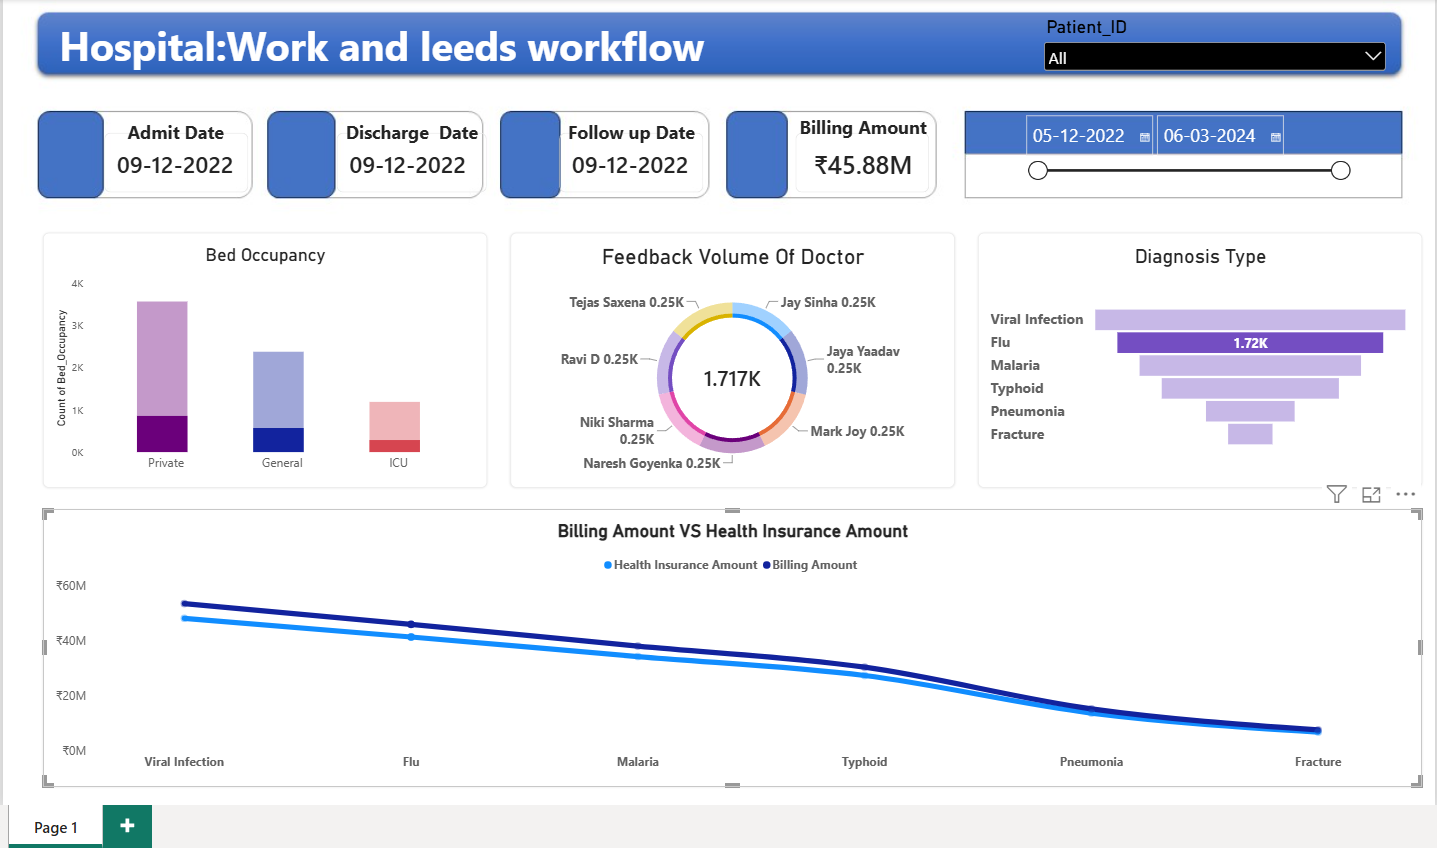

The page's visual inventory and layout, read from the dashboard file:
{"tool":"powerbi","page":{"name":"Page 1","canvas":[1920,1080],"ordinal":0},"visuals":[{"type":"textbox","box":[76.2,24.7,883,74.1],"z":0},{"type":"slicer","fields":{"Values":["Sheet1.Patient_ID"]},"box":[1389.4,22.6,467.2,76.2],"z":1000},{"type":"cardVisual","fields":{"Data":["Min(Sheet1.Admit_Date)"]},"box":[135.8,179.1,193.5,80.3],"z":2000},{"type":"textbox","box":[144.1,162.6,175,57.6],"z":3000},{"type":"cardVisual","fields":{"Data":["Min(Sheet1.Admit_Date)"]},"box":[745.1,179.1,193.5,80.3],"z":4000},{"type":"cardVisual","fields":{"Data":["Min(Sheet1.Admit_Date)"]},"box":[446.7,179.1,201.7,80.3],"z":5000},{"type":"cardVisual","fields":{"Data":["Sum(Sheet1.Billing Amount)"]},"box":[1062.1,179.1,179.1,80.3],"z":6000},{"type":"textbox","box":[446.7,162.6,201.7,43.2],"z":7000},{"type":"textbox","box":[745.1,162.6,193.5,47.3],"z":8000},{"type":"textbox","box":[1047.7,156.4,207.9,45.3],"z":9000},{"type":"slicer","fields":{"Values":["Sheet1.Admit_Date"]},"box":[1344.1,144.1,465.2,115.3],"z":10000},{"type":"columnChart","title":"Bed Occupancy","fields":{"Category":["Sheet1.Bed_Occupancy"],"Y":["CountNonNull(Sheet1.Bed_Occupancy)"]},"box":[53.6,313.2,594.9,341.7],"z":11000},{"type":"funnel","title":"Diagnosis Type","fields":{"Category":["Sheet1.Diagnosis"],"Y":["CountNonNull(Sheet1.Diagnosis)"]},"box":[1307,312.9,594.9,341.7],"z":12000},{"type":"donutChart","title":"Feedback Volume Of Doctor","fields":{"Category":["Sheet1.Doctor"],"Y":["CountNonNull(Sheet1.Doctor)"]},"box":[679.2,312.9,594.9,341.7],"z":13000},{"type":"lineChart","title":"Billing Amount VS Health Insurance Amount","fields":{"Y":["Sum(Sheet1.Health Insurance Amount)","Sum(Sheet1.Billing Amount)"],"Category":["Sheet1.Diagnosis"]},"box":[53.6,683.4,1847.5,371.8],"z":14000}]}

Visuals, with their boxes on the page's 1920x1080 design canvas (x1, y1, x2, y2). These are canvas units, not pixel positions in the 1437x848 screenshot, which may show the page scaled, cropped or inside an application window:
textbox: 76/25/959/99
slicer - Sheet1.Patient_ID: 1389/23/1857/99
cardVisual - Min(Sheet1.Admit_Date): 136/179/329/259
textbox: 144/163/319/220
cardVisual - Min(Sheet1.Admit_Date): 745/179/939/259
cardVisual - Min(Sheet1.Admit_Date): 447/179/648/259
cardVisual - Sum(Sheet1.Billing Amount): 1062/179/1241/259
textbox: 447/163/648/206
textbox: 745/163/939/210
textbox: 1048/156/1256/202
slicer - Sheet1.Admit_Date: 1344/144/1809/259
"Bed Occupancy" columnChart: 54/313/648/655
"Diagnosis Type" funnel: 1307/313/1902/655
"Feedback Volume Of Doctor" donutChart: 679/313/1274/655
"Billing Amount VS Health Insurance Amount" lineChart: 54/683/1901/1055
